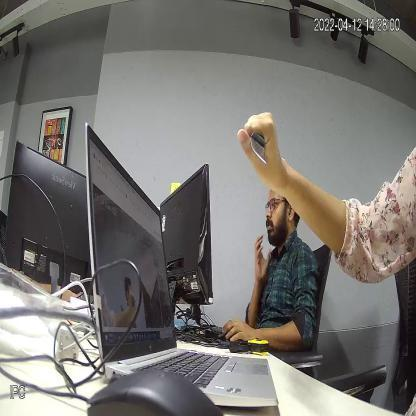Knife: (250, 131, 267, 164)
